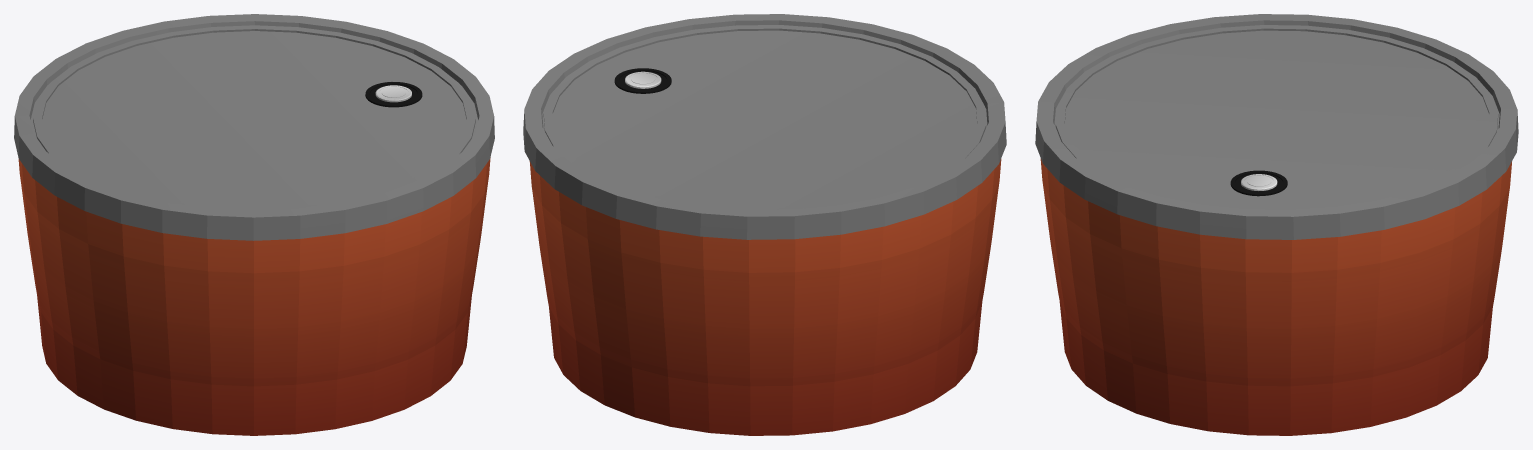
File: Large Industrial Bucket Orange.fbx
The picture shows the model from 3 angles, left to right: view 1: azimuth 30°, elevation 25°; view 2: azimuth 150°, elevation 25°; view 3: azimuth 270°, elevation 25°; orthographic projection.
Visible parts, largest first — view 1: Large Industrial Bucket Orange; view 2: Large Industrial Bucket Orange; view 3: Large Industrial Bucket Orange.
Part boxes in pixels (x1,y1,x2,y2): Large Industrial Bucket Orange: (14, 14, 494, 435); Large Industrial Bucket Orange: (523, 14, 1006, 435); Large Industrial Bucket Orange: (1035, 14, 1518, 435).
Size of the model in its own units: 153 by 291 by 290.
Materials: 1 (1 with a texture image).
